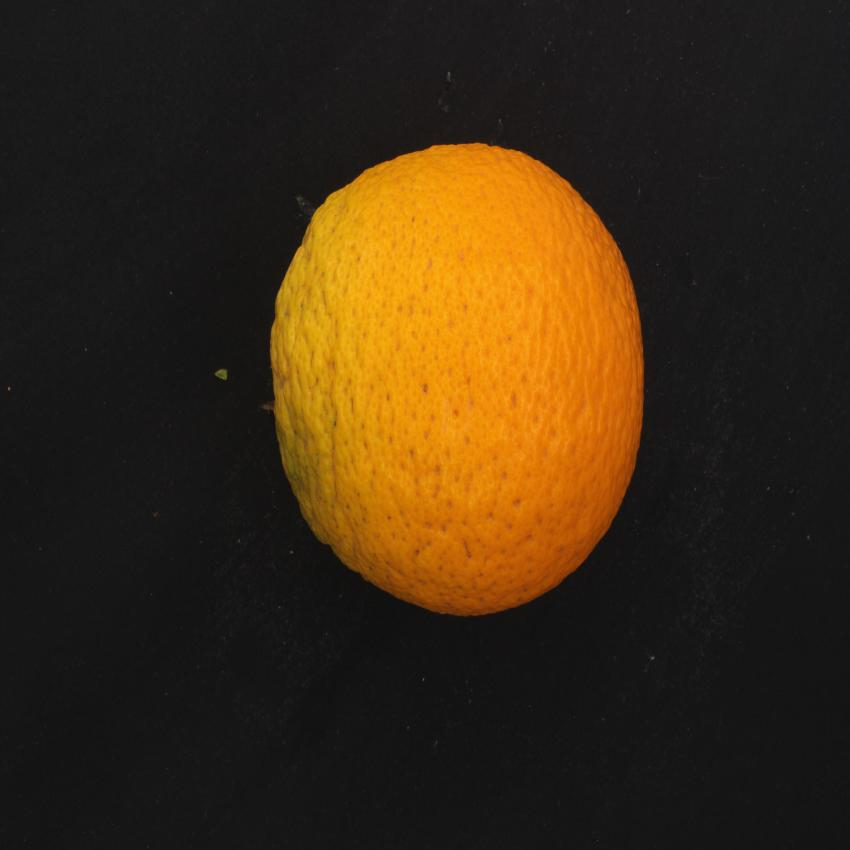Buen estado: (266, 132, 651, 629)
